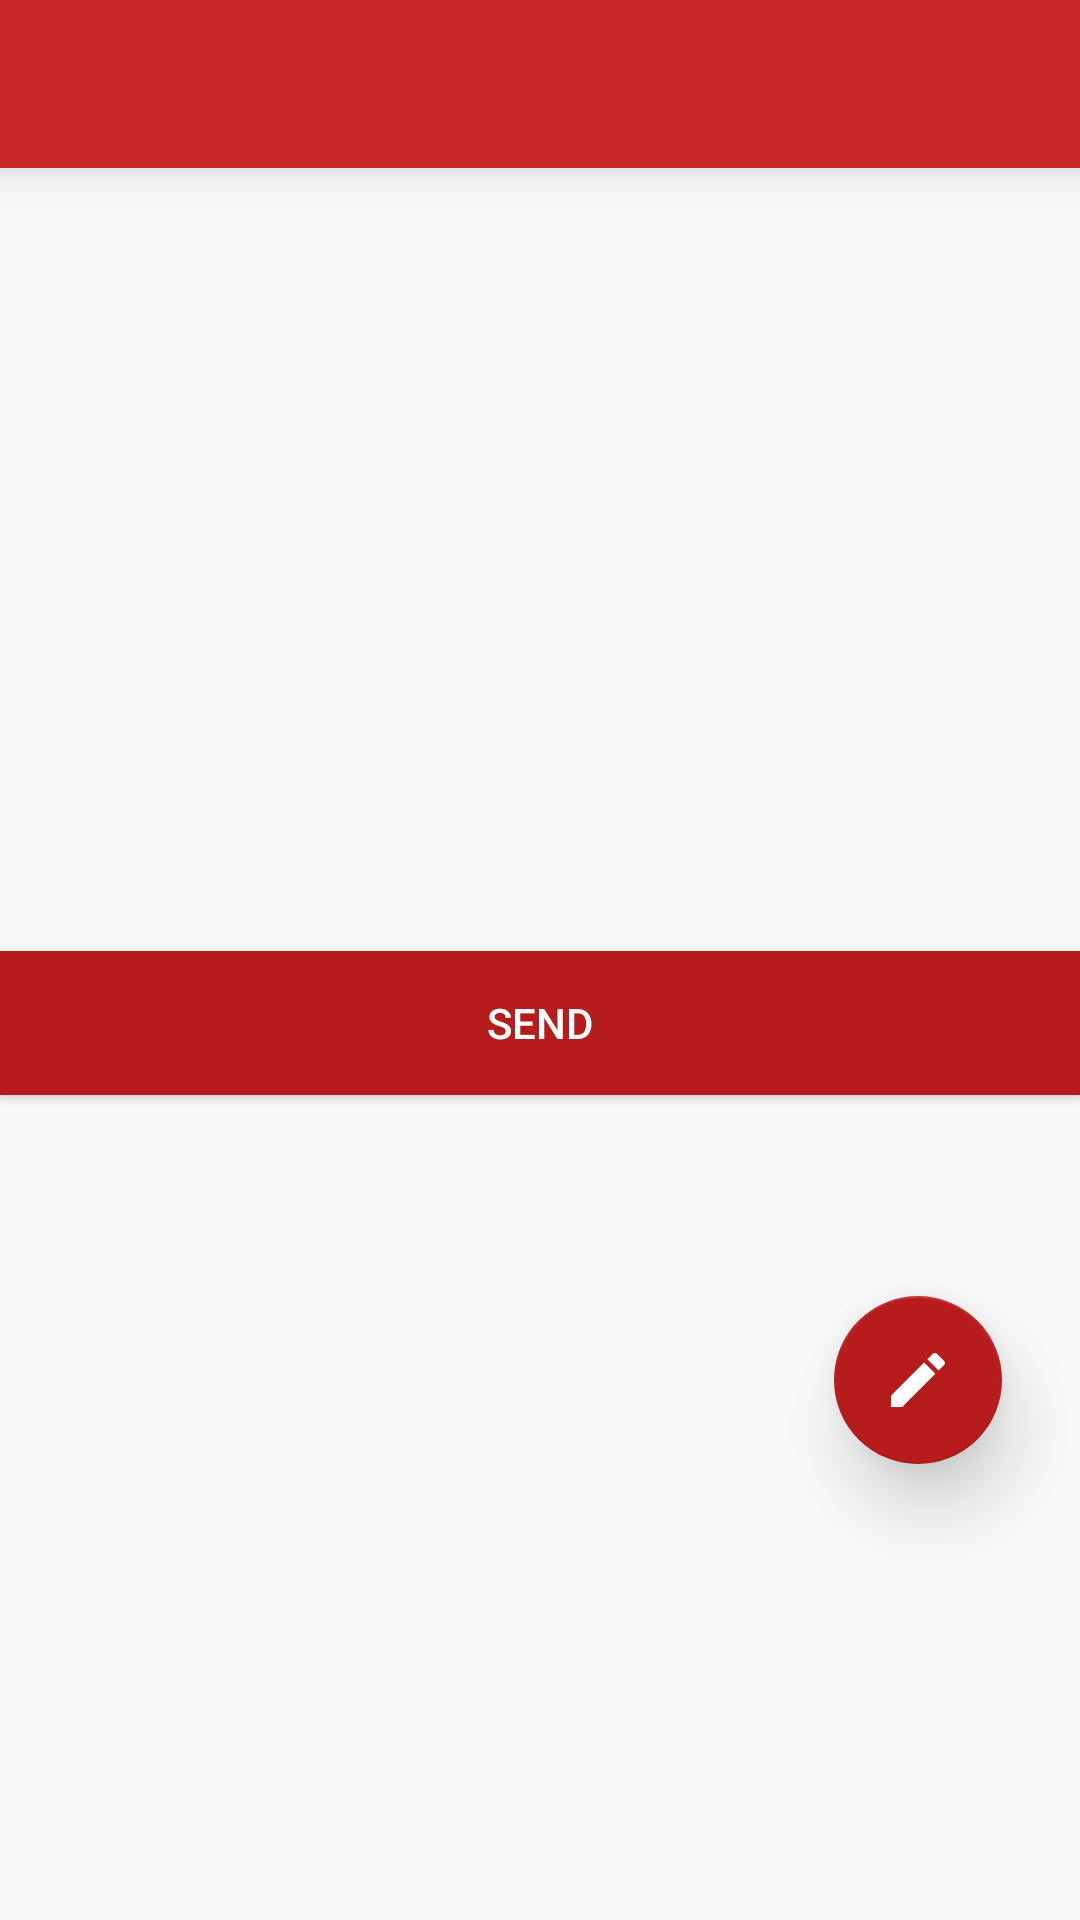

Screen size 1080 x 1920. Icon name, then its center in pixels as (x,y):
mode edit: (918,1380)
